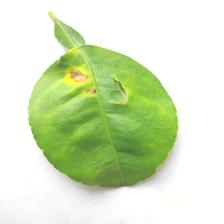canker: (63, 62, 138, 114)
